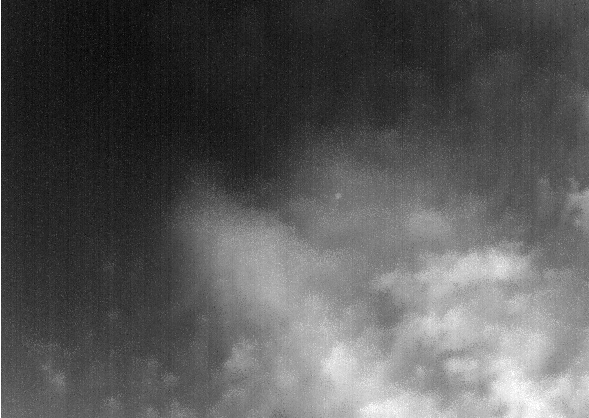dim target: (334, 192, 343, 200)
